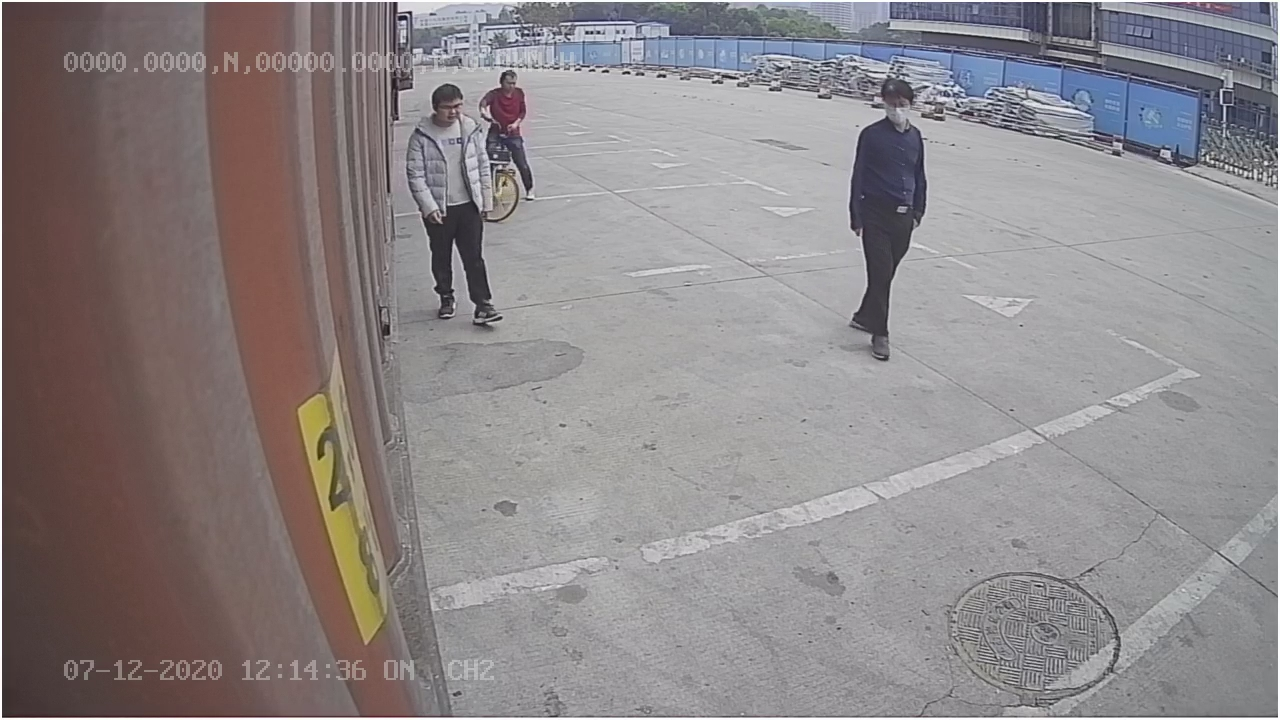person: (846, 75, 928, 360)
